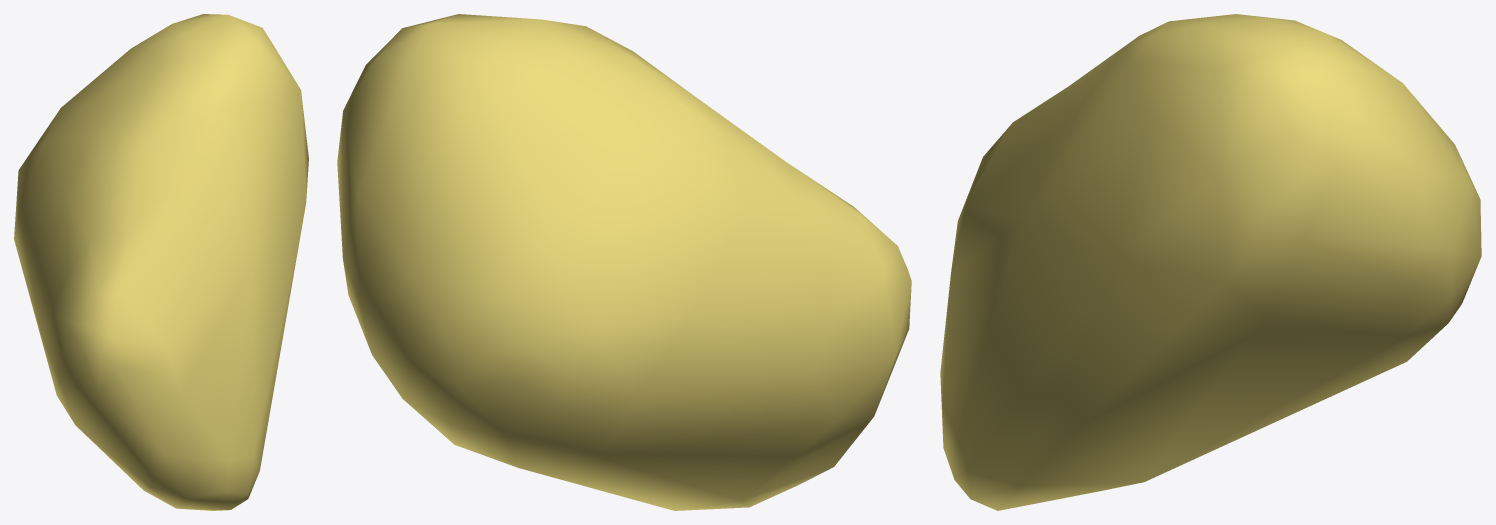
The model's file is medial-geniculate-body-r.glb.
3 renders of one model, left to right at view 1: azimuth 30°, elevation 25°; view 2: azimuth 150°, elevation 25°; view 3: azimuth 270°, elevation 25°, orthographic. The views are drawn at different scales.
Visible parts, largest first — view 1: Medial geniculate body.r; view 2: Medial geniculate body.r; view 3: Medial geniculate body.r.
Boxes of the visible parts, x1,y1,x2,y2 form: Medial geniculate body.r: (14, 14, 308, 510); Medial geniculate body.r: (337, 14, 911, 510); Medial geniculate body.r: (940, 14, 1481, 510).
Bounding box in the file's own units: 0.00633 × 0.00744 × 0.00686.
